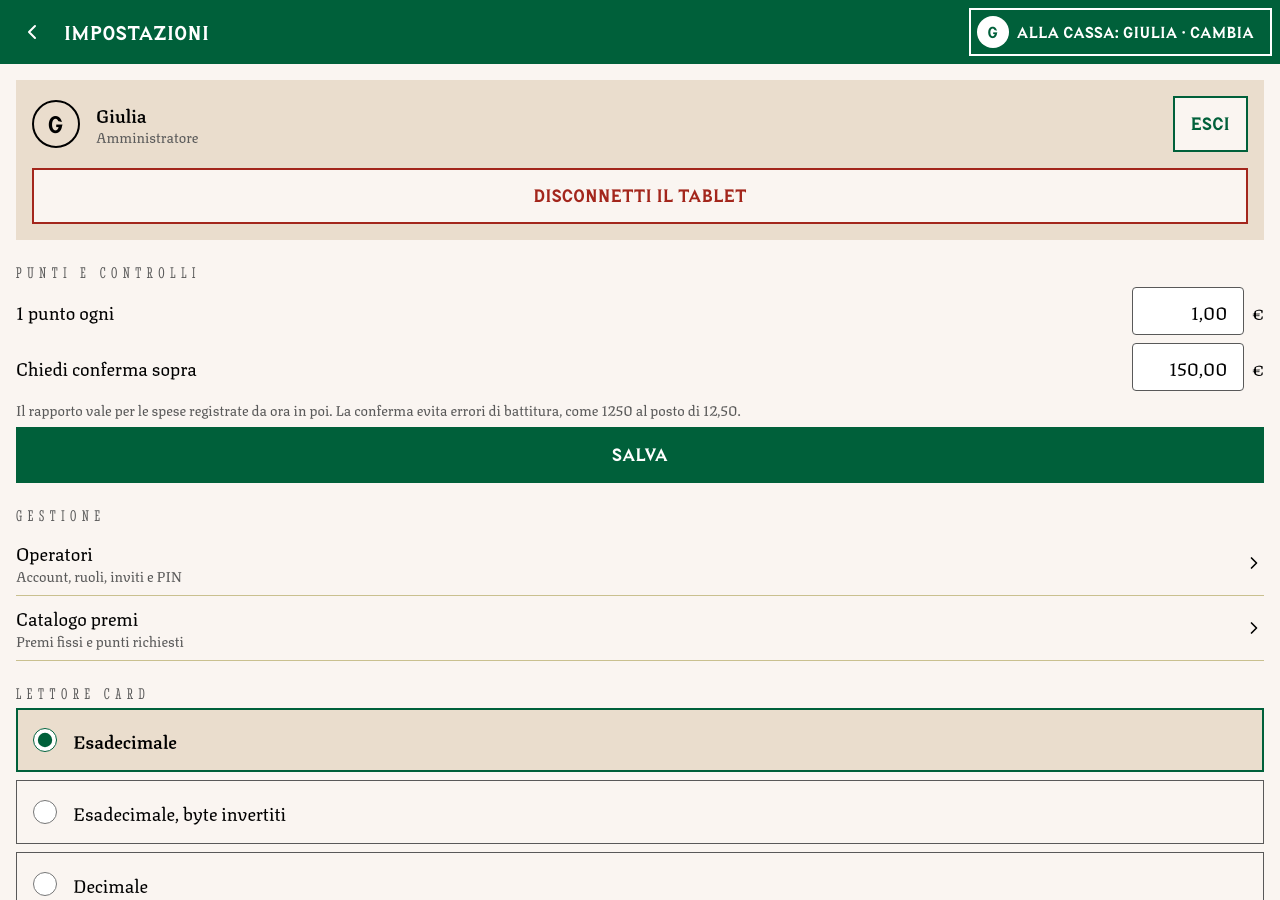
settings page on the till tablet › "Esci" opens /cassa even when ending the turn fails
The width and height of the screenshot is (1280, 900).
Click the button "Esci". click: (1210, 124)
box: [1173, 96, 1248, 152]
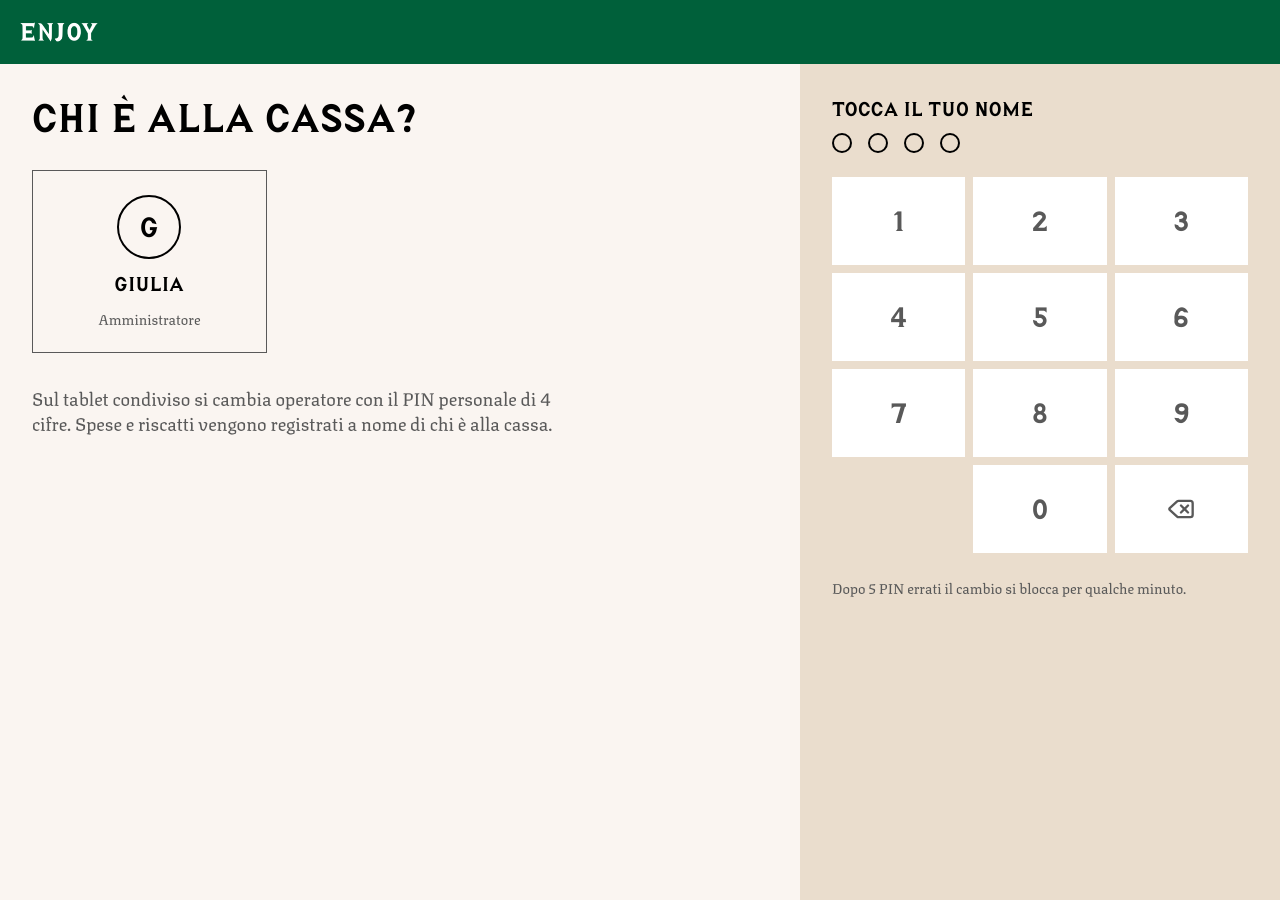
Check: the heading "Chi è alla cassa?" is shown, box [32, 94, 417, 140]
